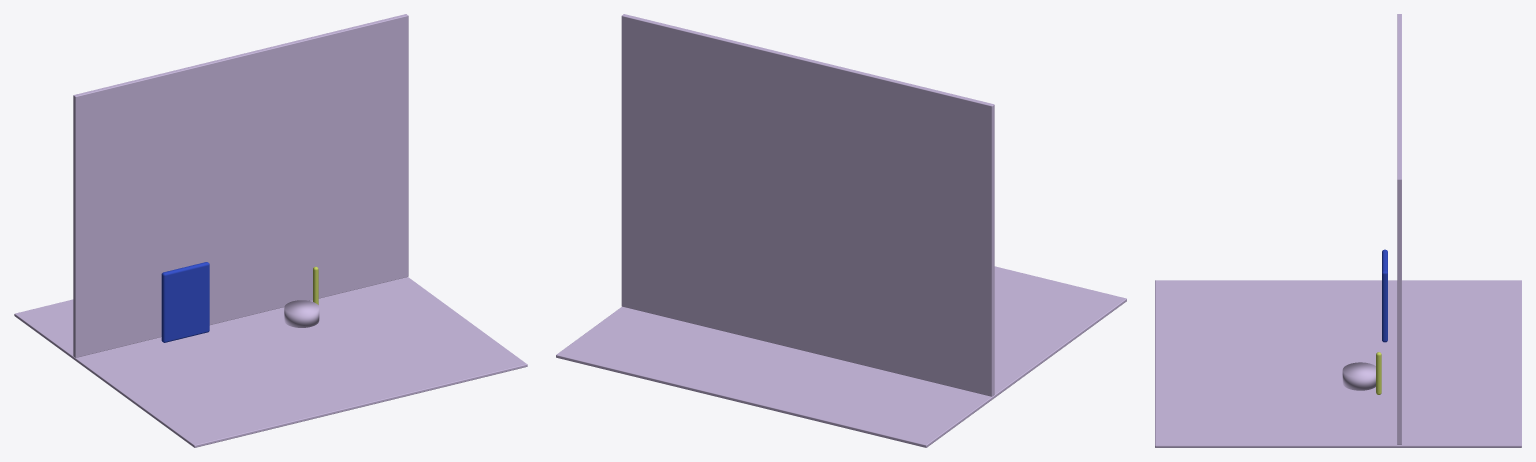
The model's file is studio-background.glb.
The picture shows the model from 3 angles, left to right: view 1: azimuth 30°, elevation 25°; view 2: azimuth 150°, elevation 25°; view 3: azimuth 270°, elevation 25°; orthographic projection. The views are drawn at different scales.
Visible parts, largest first — view 1: Background wall, Seamless floor, Cobalt architectural plane, Lilac display plinth; view 2: Background wall, Seamless floor; view 3: Seamless floor, Background wall, Lilac display plinth, Cobalt architectural plane.
Boxes of the visible parts, x1,y1,x2,y2 form: Background wall: (73, 14, 408, 357); Seamless floor: (14, 277, 527, 447); Cobalt architectural plane: (161, 262, 209, 342); Lilac display plinth: (284, 300, 319, 327); Background wall: (621, 14, 994, 396); Seamless floor: (556, 266, 1126, 447); Seamless floor: (1155, 280, 1521, 447); Background wall: (1397, 14, 1401, 444); Lilac display plinth: (1342, 362, 1375, 390); Cobalt architectural plane: (1382, 249, 1387, 342).
Size of the model in its own units: 32 by 24.27 by 30.
